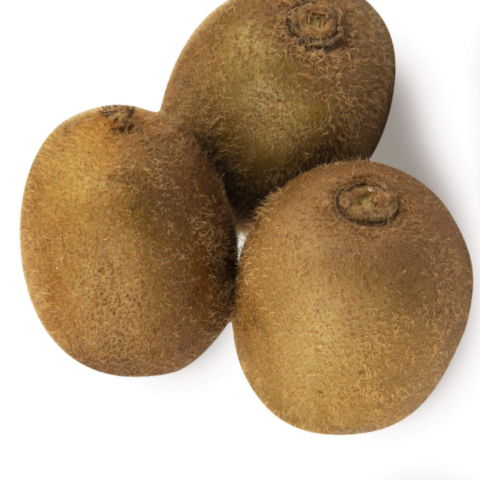kiwi: (183, 114, 480, 472), (0, 82, 269, 425), (144, 0, 451, 256)
